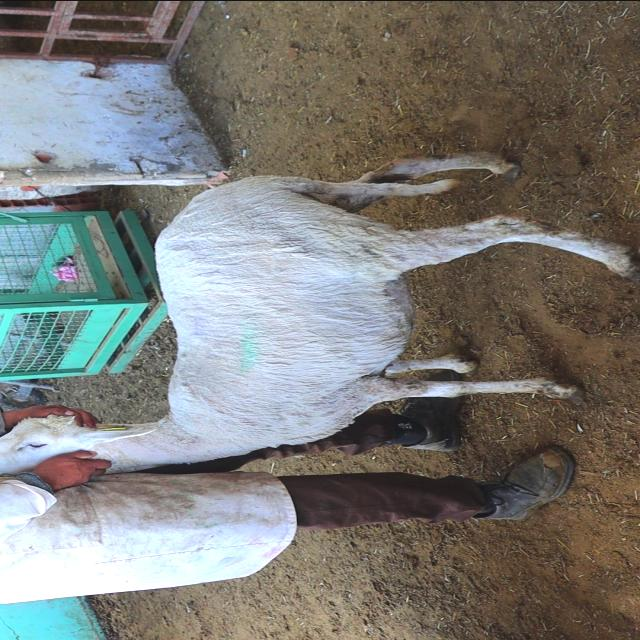Score_4: (0, 152, 639, 473)
